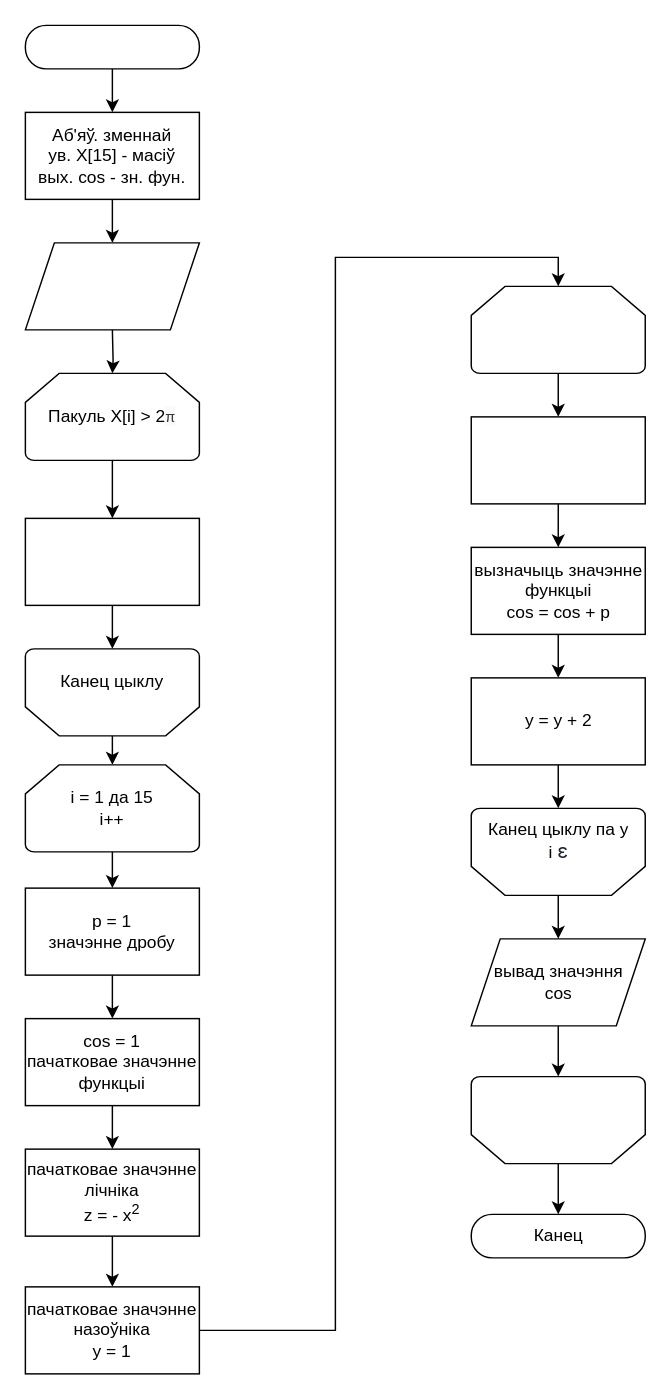
Some shapes in this 671 by 1399 pixel diagram are drawn without their labels. The centre of each missing label's shape, as x and y in pixels:
X[i] = X[i] - 2 π: (x=111, y=561)
вылічыць дроб p = p * z / y *(y+1): (x=557, y=459)
Канец цыклу па i: (x=557, y=1119)
Пакуль y < 100 i |p| > ε: (x=557, y=329)
Пачатак: (x=111, y=46)
увод масівy Х: (x=111, y=285)
